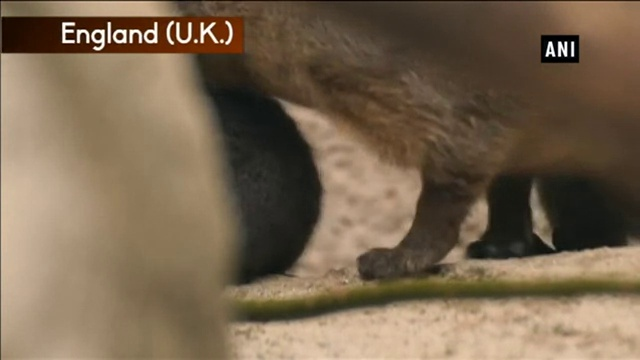Rock Hyrex: (168, 1, 640, 281)
